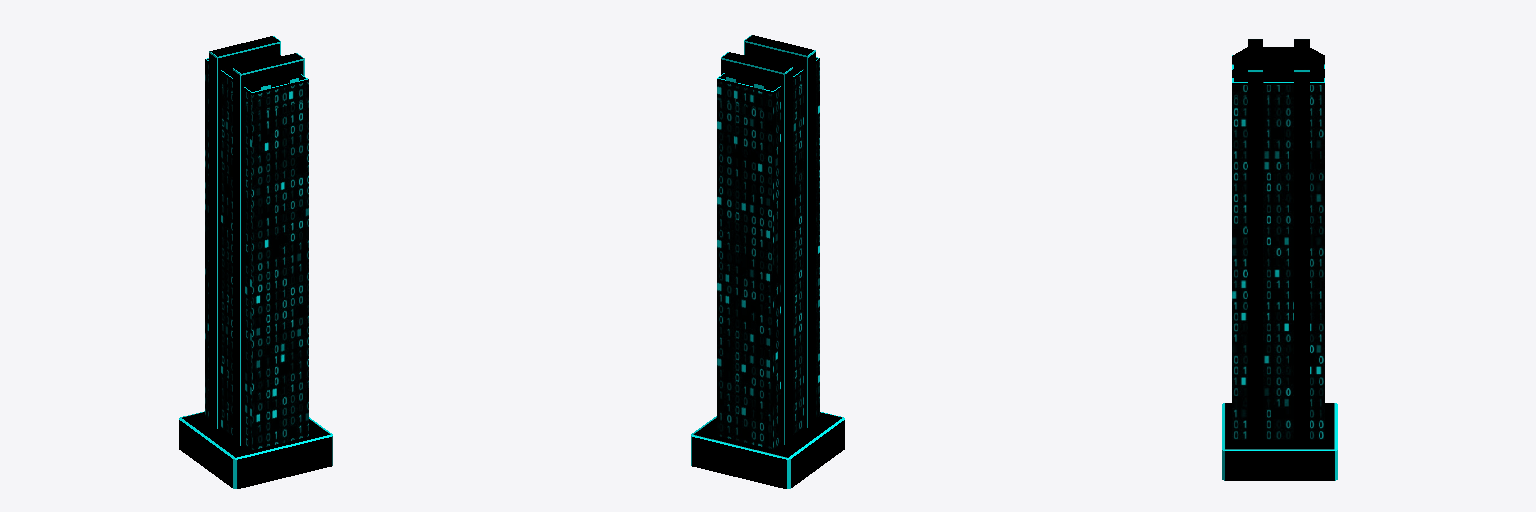
3 renders of one model, left to right at view 1: azimuth 30°, elevation 25°; view 2: azimuth 150°, elevation 25°; view 3: azimuth 270°, elevation 25°, orthographic.
Visible parts, largest first — view 1: Cube.041_Cube.030; view 2: Cube.041_Cube.030; view 3: Cube.041_Cube.030.
Boxes of the visible parts, box(x1,y1,x2,y2) form: Cube.041_Cube.030: box(179, 36, 332, 488); Cube.041_Cube.030: box(691, 35, 844, 488); Cube.041_Cube.030: box(1222, 39, 1337, 480).
Size of the model in its own units: 76.07 by 293 by 76.07.
3 materials, 1 textured.